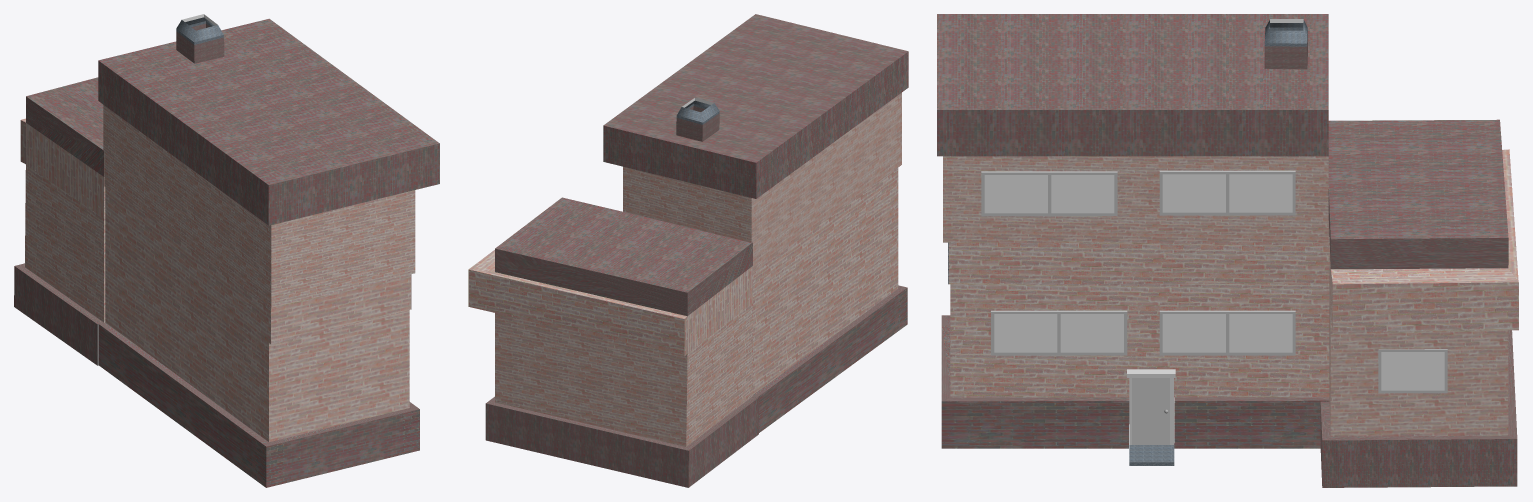
File: Building_4_NEW.fbx
3 renders of one model, left to right at view 1: azimuth 30°, elevation 25°; view 2: azimuth 150°, elevation 25°; view 3: azimuth 270°, elevation 25°, orthographic. The views are drawn at different scales.
Parts seen in each view (by area): view 1: roof, pCube1, pCube2, pCube3; view 2: pCube2, roof, pCube1, pCube3; view 3: roof, pCube2, pCube1, pCube11 (×3), pCube10 (×3), pCube8, pCube9, pCube12, door6, pCube3, pCube4.
Boxes of the visible parts, <box> form: roof: <box>98,18,439,308</box>; pCube1: <box>97,187,419,487</box>; pCube2: <box>14,77,105,365</box>; pCube3: <box>176,14,224,63</box>; pCube2: <box>468,197,758,487</box>; roof: <box>603,14,908,273</box>; pCube1: <box>752,168,907,432</box>; pCube3: <box>676,97,719,141</box>; roof: <box>937,14,1328,242</box>; pCube2: <box>1320,119,1518,487</box>; pCube1: <box>941,235,1329,448</box>; pCube11 (×3): <box>981,170,1228,355</box>; pCube10 (×3): <box>1048,170,1295,355</box>; pCube8: <box>991,310,1060,355</box>; pCube9: <box>1057,310,1127,355</box>; pCube12: <box>1378,349,1447,393</box>; door6: <box>1129,378,1173,444</box>; pCube3: <box>1264,19,1307,69</box>; pCube4: <box>1129,443,1174,465</box>.
Size of the model in its own units: 7.47 by 9.75 by 13.34.
